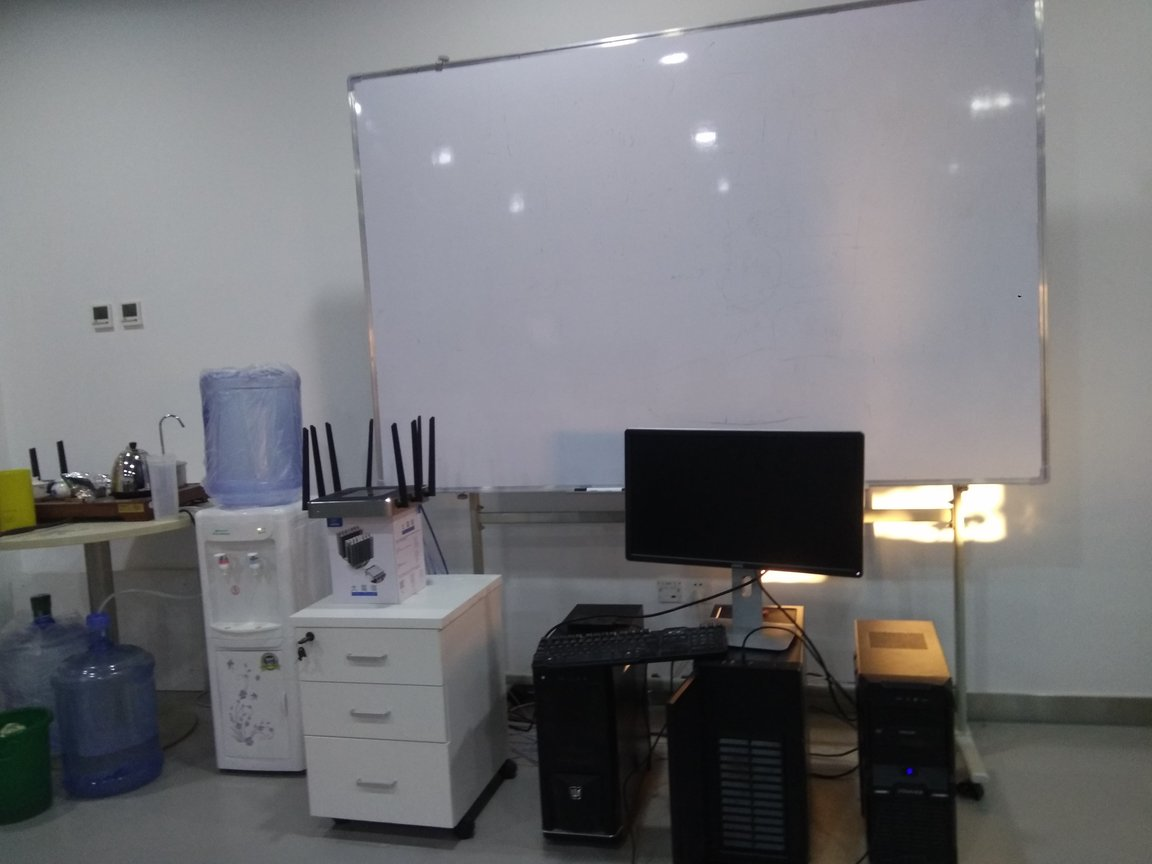computer: (671, 600, 811, 864), (532, 600, 653, 851), (854, 614, 960, 864)
drawer chest: (291, 571, 519, 843)
monitor: (626, 421, 876, 658)
scuttlebutt: (57, 608, 162, 805), (1, 593, 95, 773), (198, 362, 304, 499)
water dispenser: (192, 498, 330, 781)
